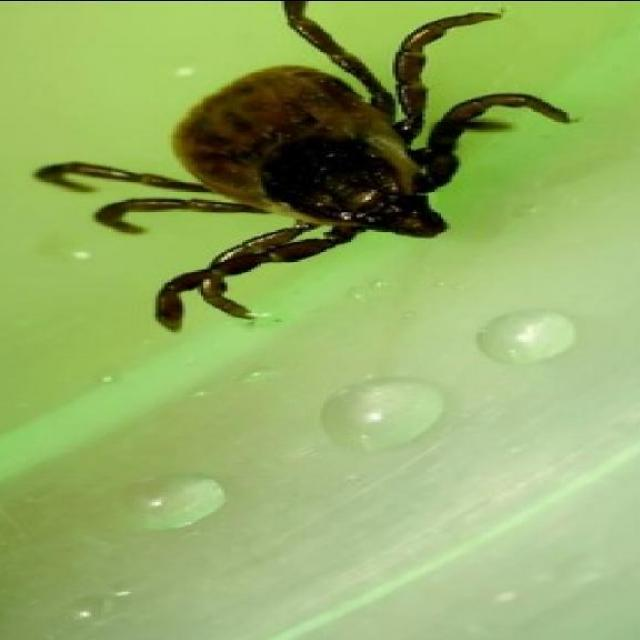Rhipicephalus Sanguineus-F: (32, 0, 572, 330)
